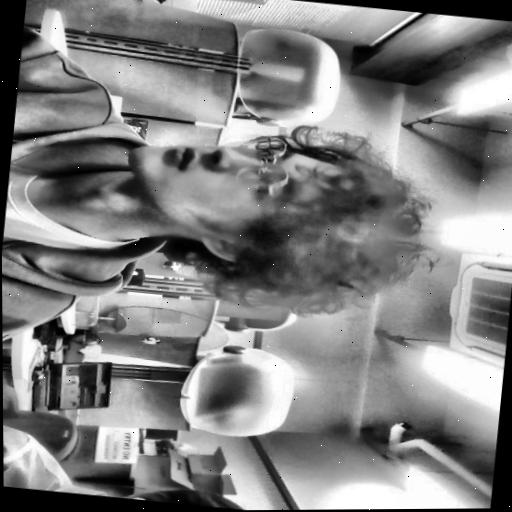Daifuku: (111, 114, 442, 331)
